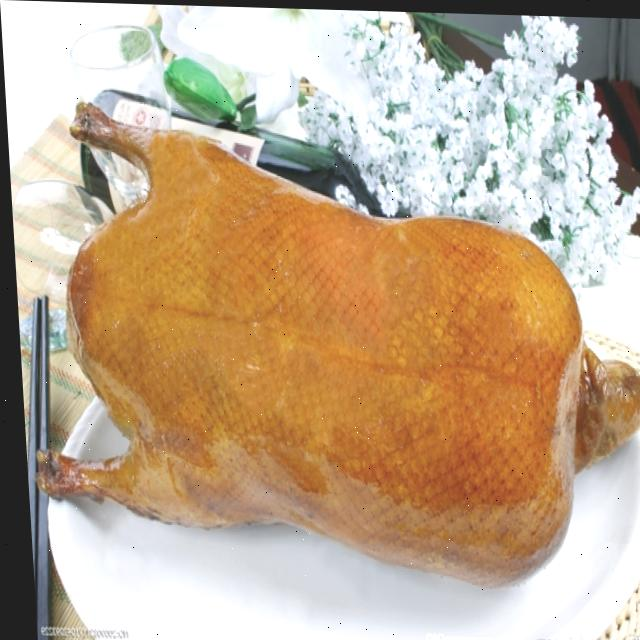烧串烤肉: (38, 78, 640, 628)
